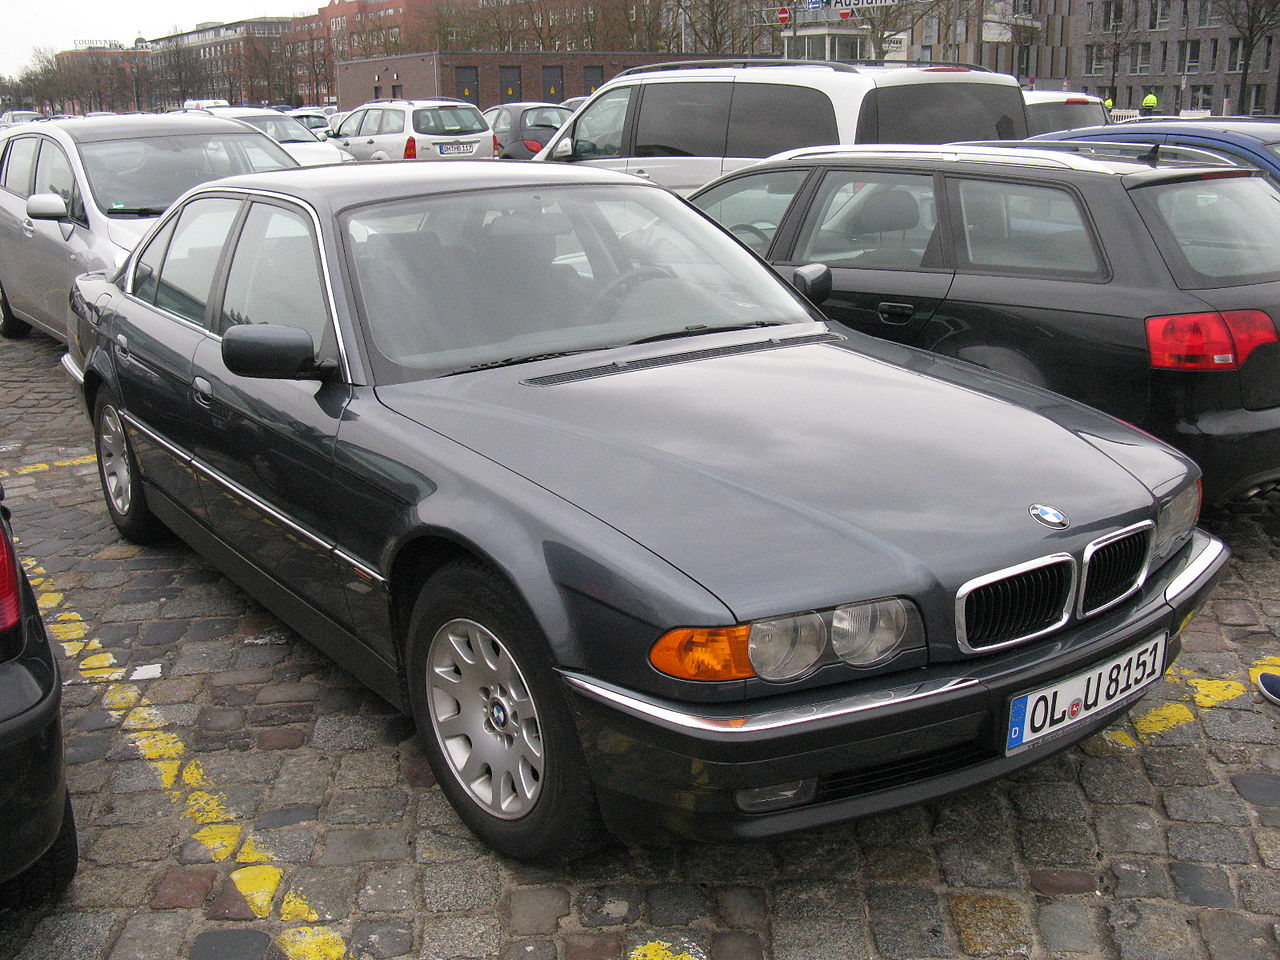plate: (1003, 628, 1170, 759)
